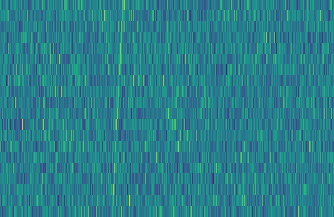signal: (105, 0, 126, 217)
